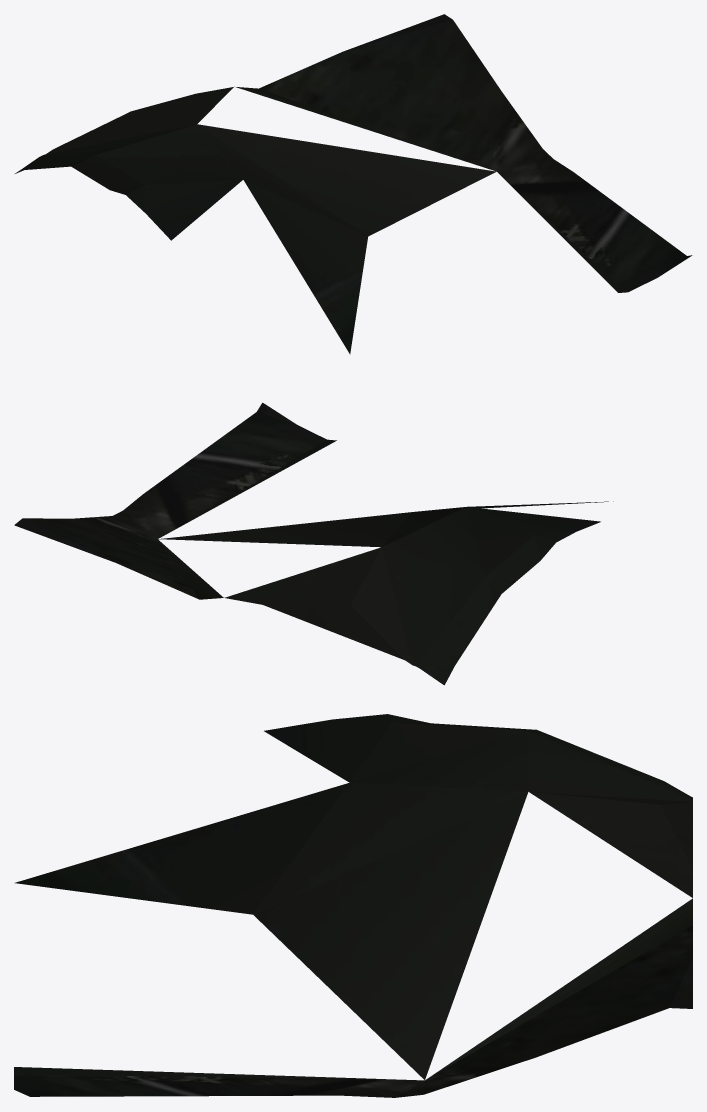
3 views of the same model, one above another, from view 1: azimuth 30°, elevation 25°; view 2: azimuth 150°, elevation 25°; view 3: azimuth 270°, elevation 25° (orthographic). The views are drawn at different scales.
Bounding box in the file's own units: 0.8374 × 0.1675 × 0.8373.
Materials: 3 (3 with a texture image).
